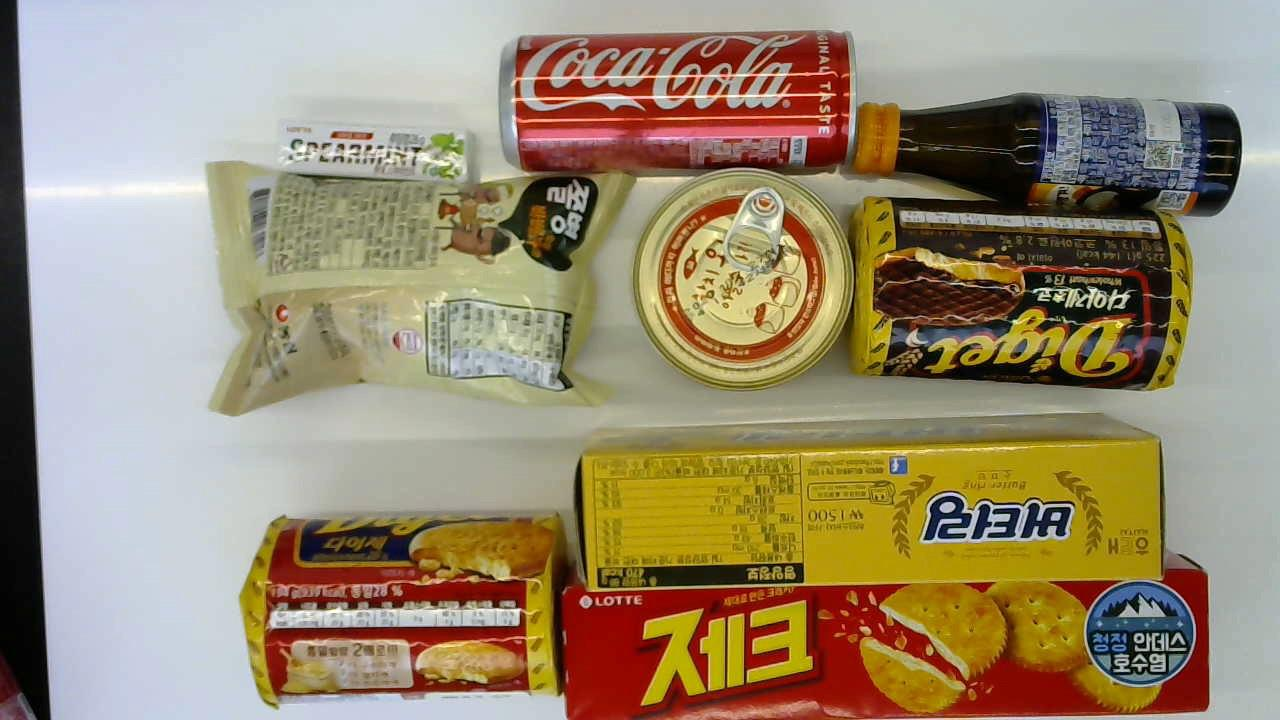buttering: (566, 422, 1174, 581)
coke: (497, 30, 860, 172)
diget_choco: (856, 197, 1191, 394)
diget_ori: (242, 506, 567, 701)
jjolbyung_ori: (203, 156, 631, 419)
spearmint: (278, 125, 475, 186)
tuna: (639, 171, 849, 390)
vita500: (852, 95, 1241, 195)
zec: (563, 552, 1207, 712)
